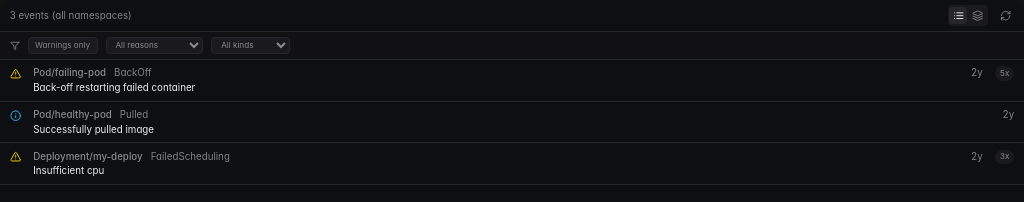
Test: EventsTab › clears all filters when Clear is clicked
The image size is (1024, 202).
Expected: the text "Pod/failing-pod" is shown, [33,66,106,79]
# Activate warnings-only
Click the button with test id "warnings-only-toggle" at (62, 45), box [28,37,98,54]
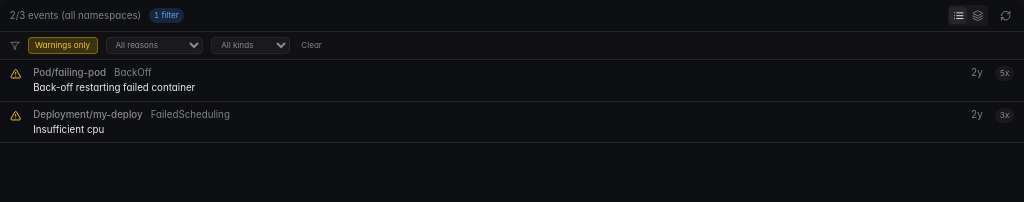
Expected: the text "Pod/healthy-pod" is gone
Expected: the button with test id "clear-filters" is shown
# Clear all filters
Click the button with test id "clear-filters" at (312, 45), box [301,40,322,51]
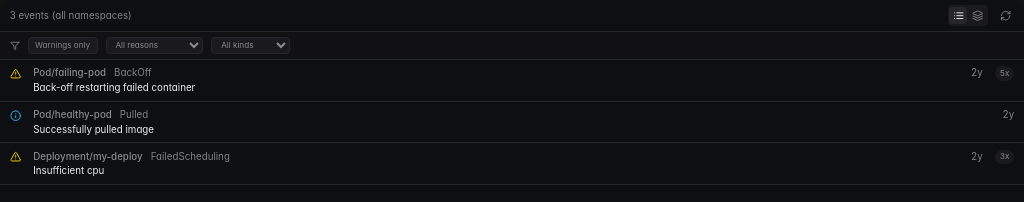
Expected: the text "Pod/failing-pod" is shown, [33,66,106,79]
Expected: the text "Pod/healthy-pod" is shown, [33,108,112,121]
